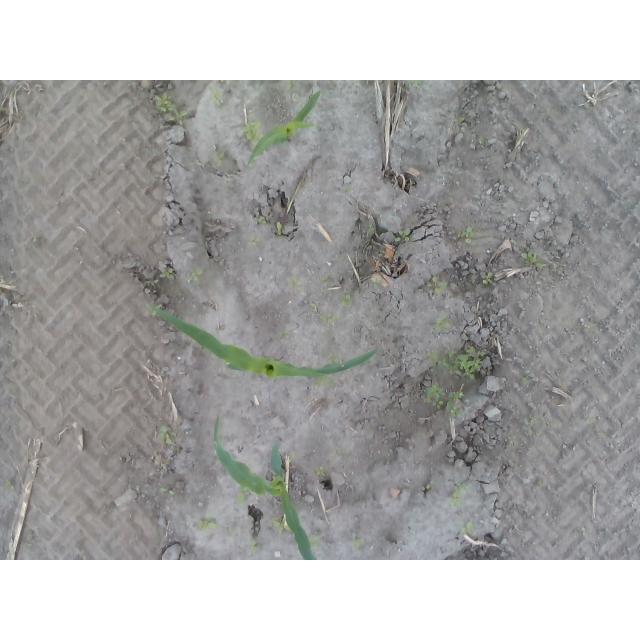Maize: (150, 302, 375, 380), (213, 413, 320, 560), (248, 91, 320, 169)
Weeds: (427, 344, 485, 385), (420, 381, 464, 418), (154, 92, 191, 124), (447, 478, 467, 507), (427, 276, 449, 296), (521, 252, 544, 269), (157, 425, 175, 445), (243, 120, 259, 141), (187, 267, 205, 285), (271, 515, 285, 534), (194, 518, 216, 530), (158, 267, 175, 281), (212, 149, 225, 167), (211, 87, 223, 106), (395, 229, 410, 243), (437, 318, 454, 330), (482, 271, 495, 286), (464, 227, 474, 246), (4, 479, 17, 493), (246, 542, 259, 556), (318, 314, 338, 323), (275, 221, 285, 238), (405, 80, 426, 88), (160, 486, 175, 497), (352, 534, 365, 546), (341, 294, 353, 306), (463, 522, 474, 535), (308, 535, 321, 546), (287, 279, 301, 289), (318, 467, 327, 481), (519, 375, 529, 386), (234, 495, 244, 505), (456, 116, 467, 124)
